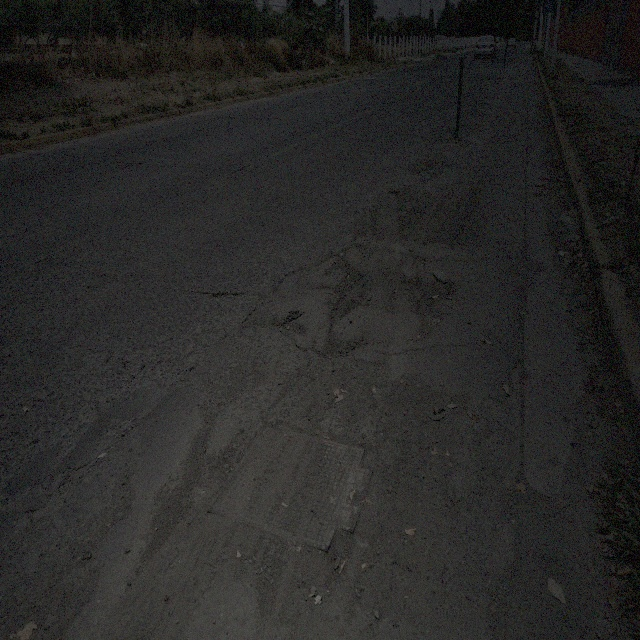pothole: (32, 449, 109, 518), (325, 521, 355, 581), (389, 189, 399, 197)
